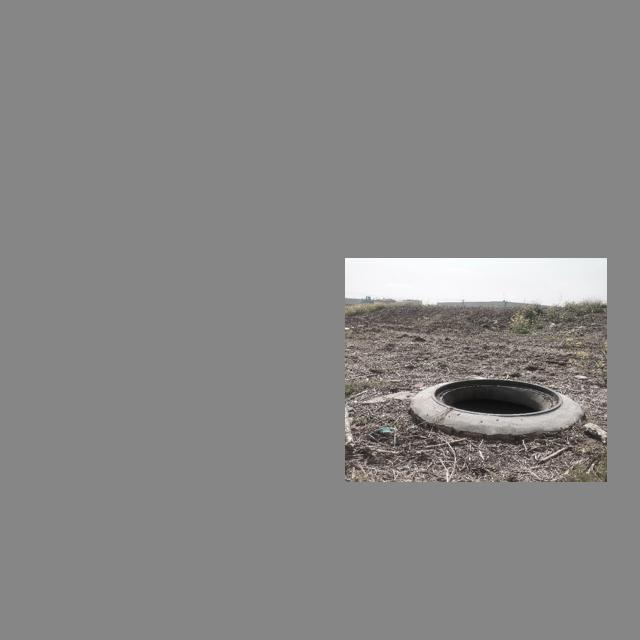lose: (431, 378, 562, 416)
